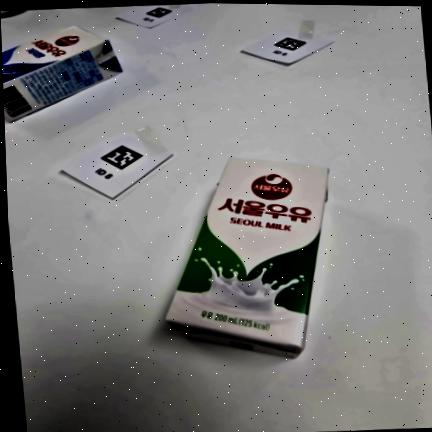milk_blue: (2, 24, 123, 122)
milk_green: (164, 156, 329, 360)
